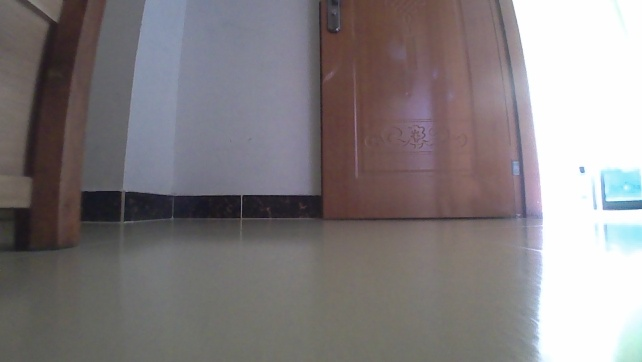door_anno: (317, 0, 542, 233)
